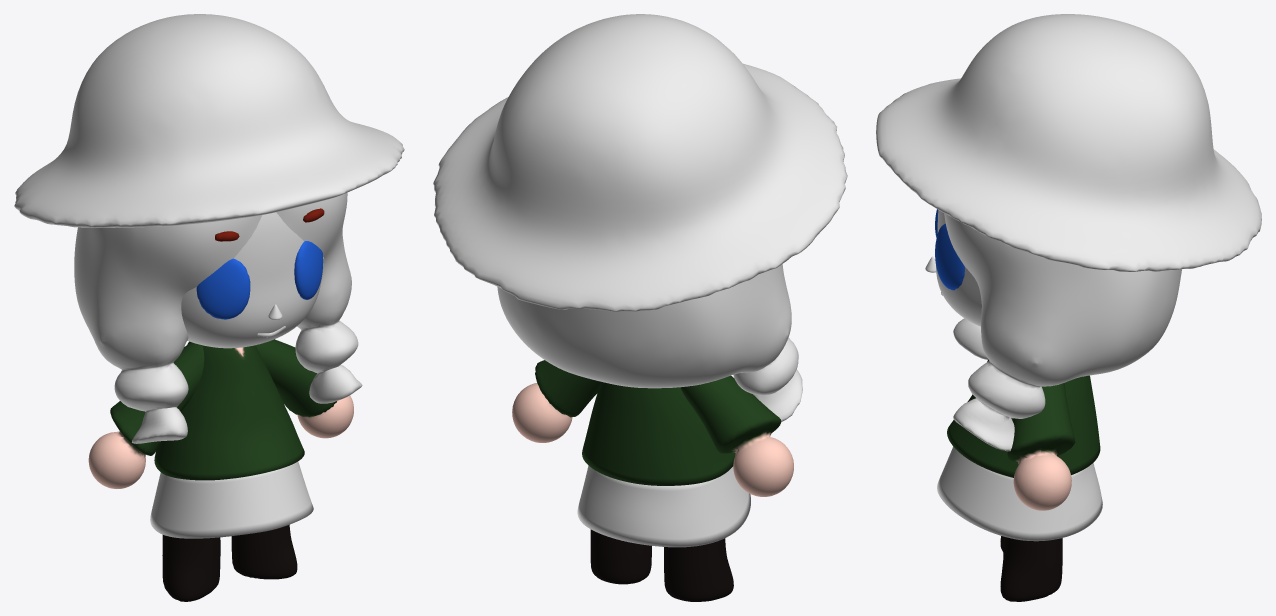
File: ranger.fbx
3 views of the same model, side by side, from view 1: azimuth 30°, elevation 25°; view 2: azimuth 150°, elevation 25°; view 3: azimuth 270°, elevation 25° (orthographic). The views are drawn at different scales.
Parts seen in each view (by area): view 1: 球體_split, 球體.001, 映象_1, 圓柱體, 圓柱體.001, 球體, 映象; view 2: 球體_split, 球體.001, 映象_1, 圓柱體, 圓柱體.001; view 3: 球體_split, 球體.001, 映象_1, 圓柱體.001, 圓柱體, 球體, 映象.
Boxes of the visible parts, box(x1,y1,x2,y2) form: 球體_split: box(14, 14, 404, 227); 球體.001: box(74, 193, 362, 443); 映象_1: box(88, 339, 353, 601); 圓柱體: box(154, 341, 304, 480); 圓柱體.001: box(150, 461, 313, 538); 球體: box(181, 212, 324, 348); 映象: box(196, 208, 324, 319); 球體_split: box(433, 14, 847, 311); 球體.001: box(497, 264, 802, 421); 映象_1: box(512, 360, 793, 601); 圓柱體: box(582, 382, 735, 485); 圓柱體.001: box(577, 465, 750, 547); 球體_split: box(876, 14, 1261, 271); 球體.001: box(944, 213, 1181, 451); 映象_1: box(1000, 383, 1075, 601); 圓柱體.001: box(937, 446, 1102, 541); 圓柱體: box(947, 359, 1100, 477); 球體: box(936, 210, 981, 326); 映象: box(935, 209, 964, 290).
Size of the model in its own units: 1.41 by 2.1 by 1.34.
